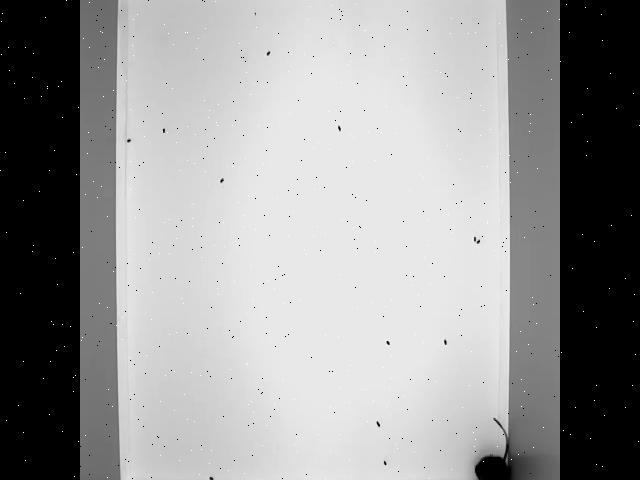Tikus: (466, 404, 512, 480)
